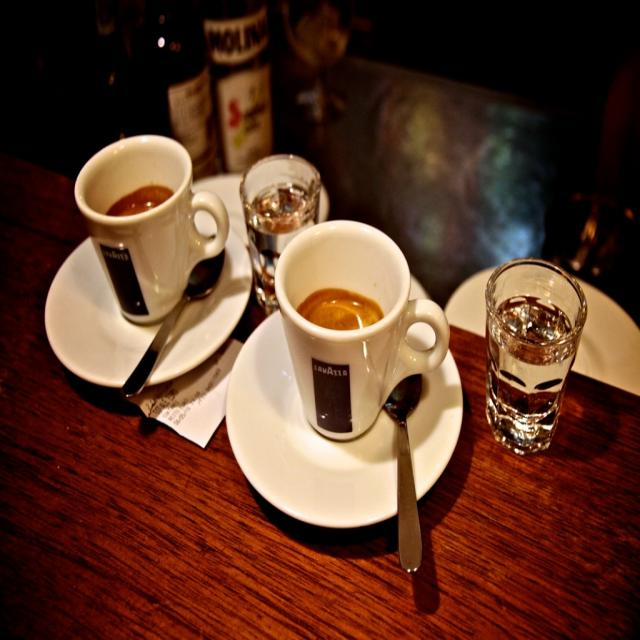Tea: (292, 290, 382, 332), (105, 187, 174, 211)
